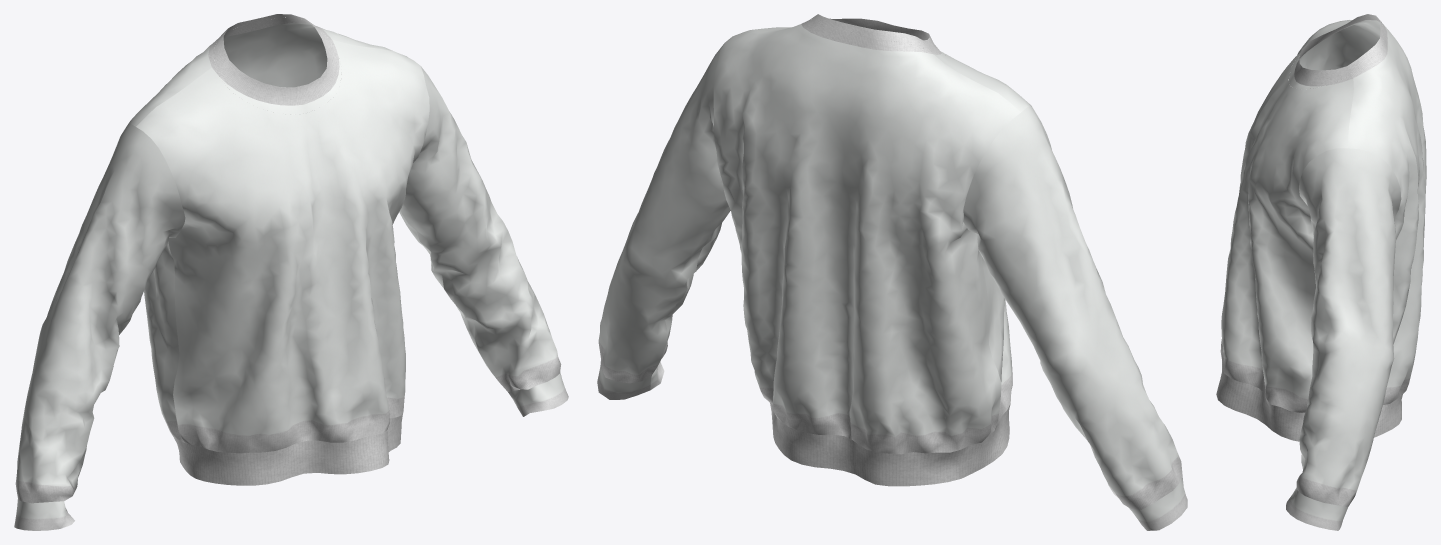
The model's file is sweatshirt.glb.
3 views of the same model, side by side, from view 1: azimuth 30°, elevation 25°; view 2: azimuth 150°, elevation 25°; view 3: azimuth 270°, elevation 25° (orthographic). The views are drawn at different scales.
Visible parts, largest first — view 1: FRONT, ARM_L, HEM_R_1, BACK, HEM_BTTM, NECK, HEM_L, HEM_R; view 2: BACK, ARM_L, HEM_R_1, HEM_BTTM, FRONT, NECK, HEM_L, HEM_R; view 3: HEM_R_1, FRONT, BACK, HEM_BTTM, NECK, ARM_L, HEM_R.
Boxes of the visible parts, x1,y1,x2,y2 form: FRONT: (136,40,429,453); ARM_L: (15,124,185,503); HEM_R_1: (399,66,561,391); BACK: (127,22,406,442); HEM_BTTM: (174,415,402,485); NECK: (208,14,339,105); HEM_L: (14,499,74,530); HEM_R: (508,372,568,416); BACK: (713,24,1020,454); ARM_L: (963,106,1182,509); HEM_R_1: (598,44,730,383); HEM_BTTM: (769,402,1010,486); FRONT: (726,27,1032,429); NECK: (801,14,941,54); HEM_L: (1128,477,1187,530); HEM_R: (597,361,664,399); HEM_R_1: (1296,148,1401,506); FRONT: (1220,20,1353,412); BACK: (1348,20,1426,404); HEM_BTTM: (1216,361,1402,441); NECK: (1294,14,1387,86); ARM_L: (1300,25,1378,70); HEM_R: (1286,487,1347,530).
Size of the model in its own units: 0.882 by 0.6651 by 0.3254.
3 materials, 2 textured.
